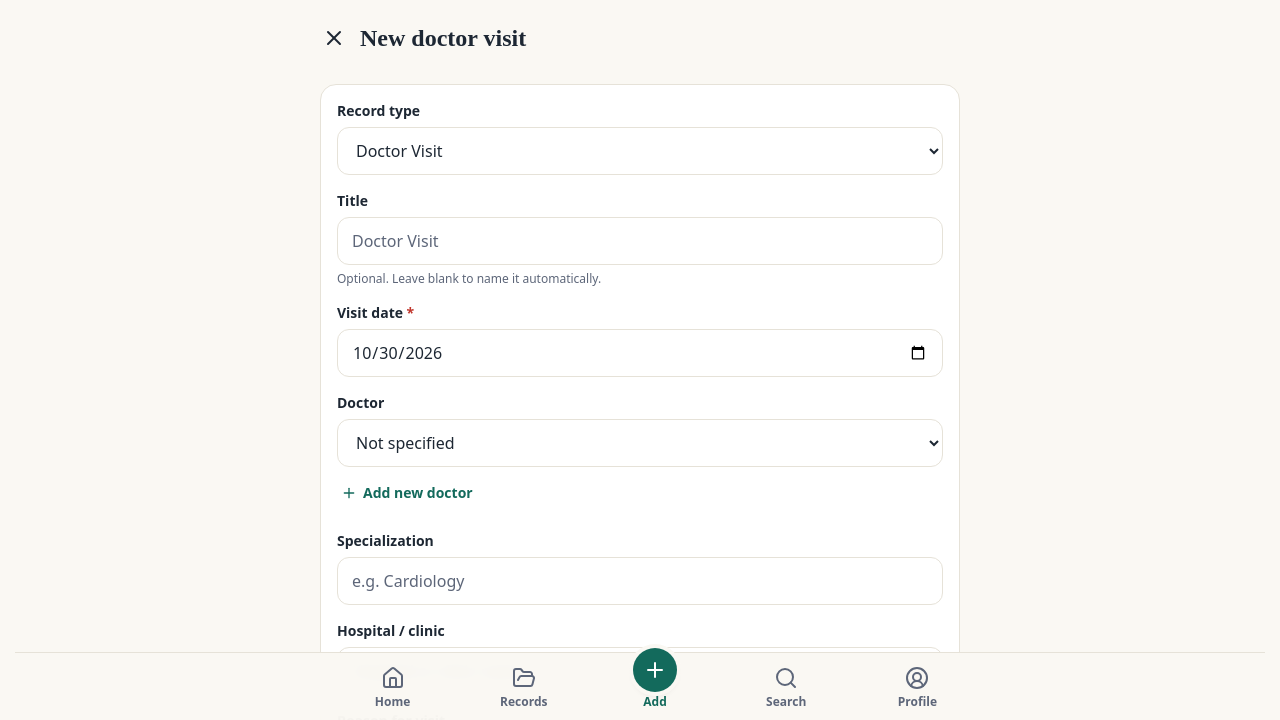
adding a record › closes an untouched form without asking
The width and height of the screenshot is (1280, 720).
Click the button named "Close". click: (334, 38)
box: [312,16,356,60]
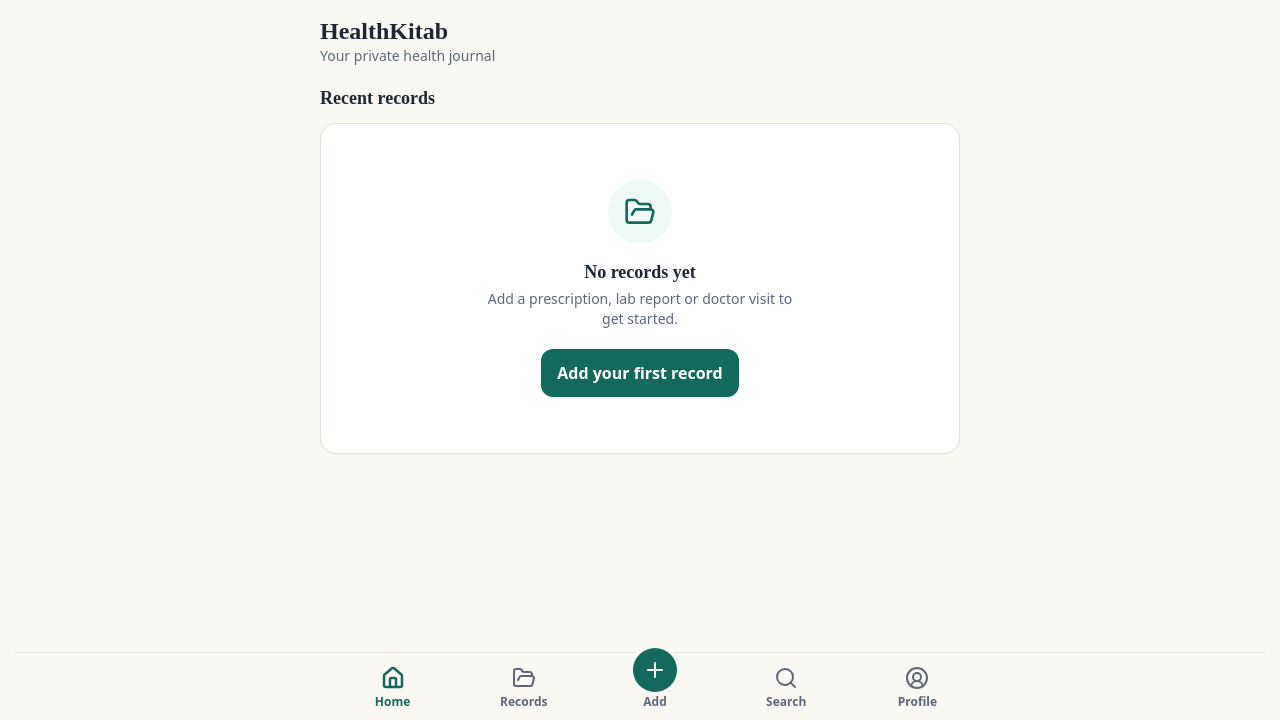
Check: the heading "HealthKitab" is shown, box [320,18,448,44]
